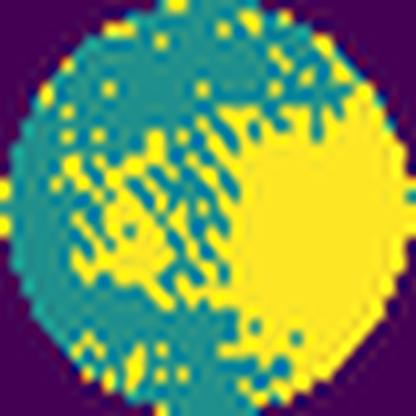Edge-Loc: (196, 79, 415, 408)
